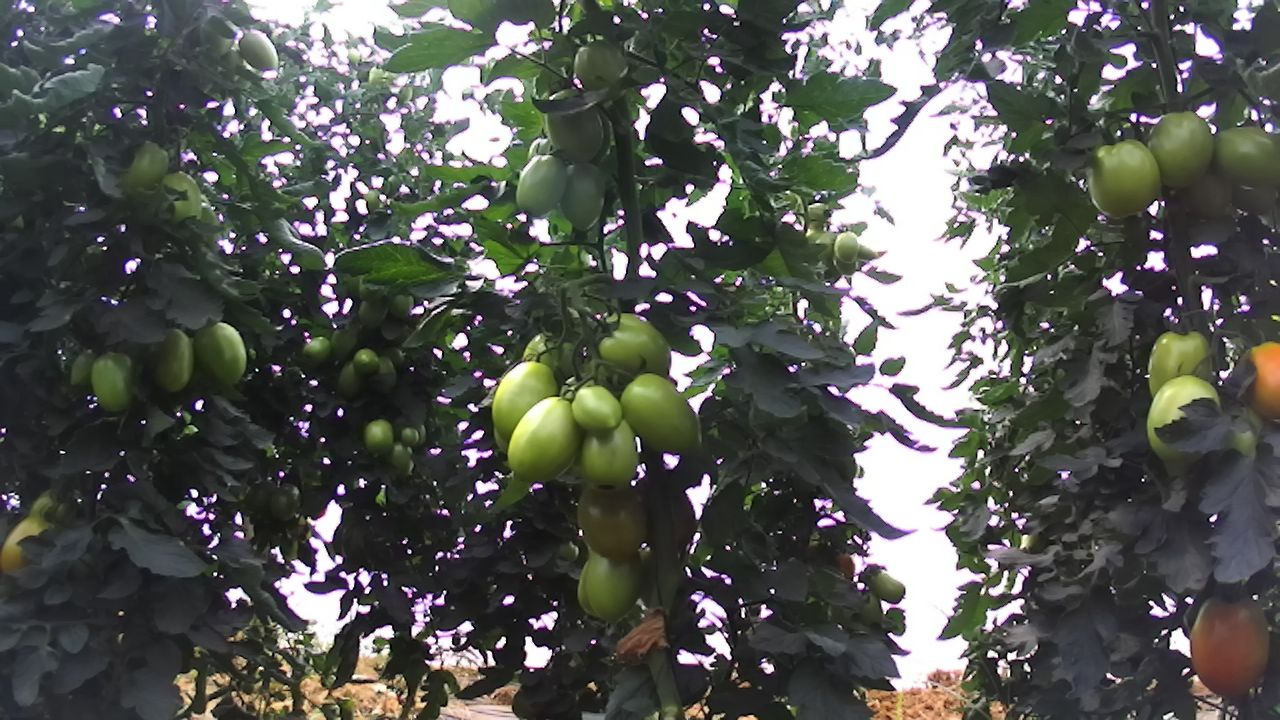tomato: (1189, 592, 1272, 703), (617, 369, 708, 454), (1079, 136, 1166, 222), (504, 396, 588, 484), (1142, 376, 1220, 468), (1144, 327, 1217, 416), (571, 545, 647, 629), (578, 475, 650, 561), (596, 308, 676, 383), (488, 358, 559, 442), (1148, 107, 1216, 189), (538, 84, 606, 164), (579, 408, 641, 492), (1209, 121, 1280, 190), (1232, 332, 1280, 422), (192, 318, 248, 391), (568, 31, 632, 93), (558, 158, 610, 233), (514, 152, 570, 219), (145, 323, 195, 396), (567, 381, 626, 437), (90, 347, 136, 414), (236, 22, 282, 78), (864, 565, 911, 607), (266, 478, 309, 523), (359, 413, 399, 458), (63, 348, 96, 394), (335, 358, 369, 400), (354, 288, 387, 331), (369, 356, 401, 397), (832, 225, 862, 268), (348, 345, 383, 378), (299, 334, 333, 366), (385, 287, 416, 320), (396, 423, 421, 449)
